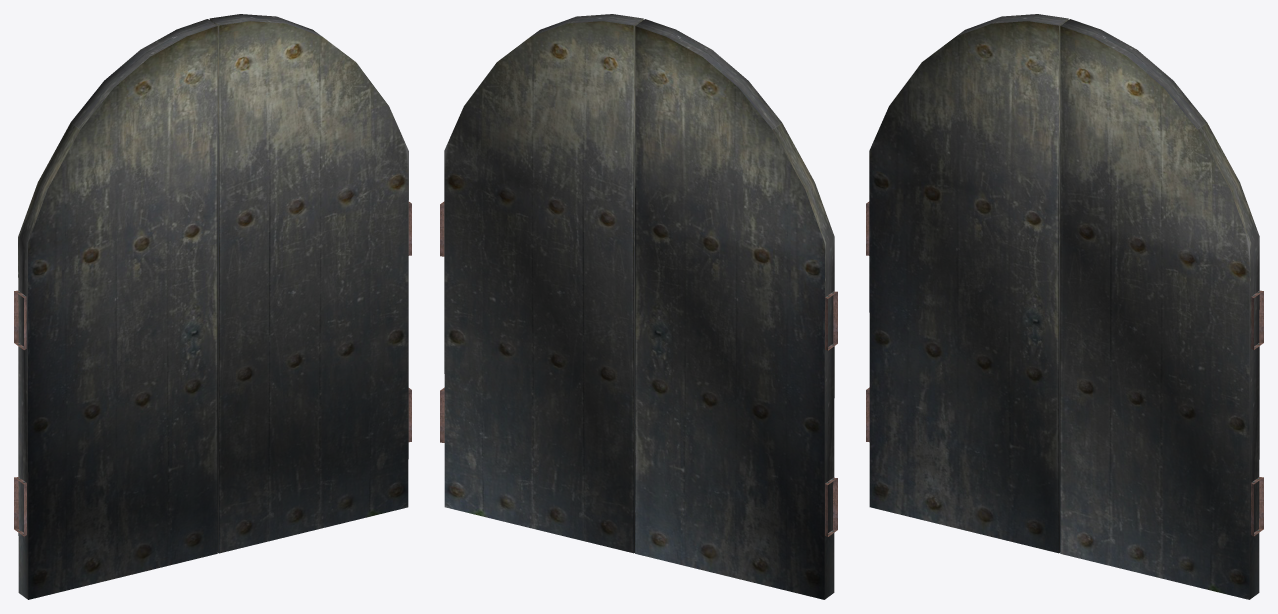
The model's file is DoorWood.fbx.
3 renders of one model, left to right at view 1: azimuth 30°, elevation 25°; view 2: azimuth 150°, elevation 25°; view 3: azimuth 330°, elevation 25°, orthographic.
Parts seen in each view (by area): view 1: Door Left, Door Right, Doorstuff; view 2: Door Left, Door Right, Doorstuff; view 3: Door Right, Door Left, Doorstuff.
Boxes of the visible parts, left/top/right/bottom form: Door Left: left=18, top=19, right=217, bottom=599; Door Right: left=209, top=14, right=408, bottom=553; Doorstuff: left=14, top=201, right=411, bottom=536; Door Left: left=635, top=19, right=834, bottom=599; Door Right: left=444, top=14, right=643, bottom=553; Doorstuff: left=440, top=201, right=837, bottom=536; Door Right: left=1060, top=19, right=1259, bottom=599; Door Left: left=869, top=14, right=1068, bottom=553; Doorstuff: left=866, top=201, right=1263, bottom=536.
Size of the model in its own units: 29.09 by 37.83 by 1.35.
Materials: 1 (1 with a texture image).
